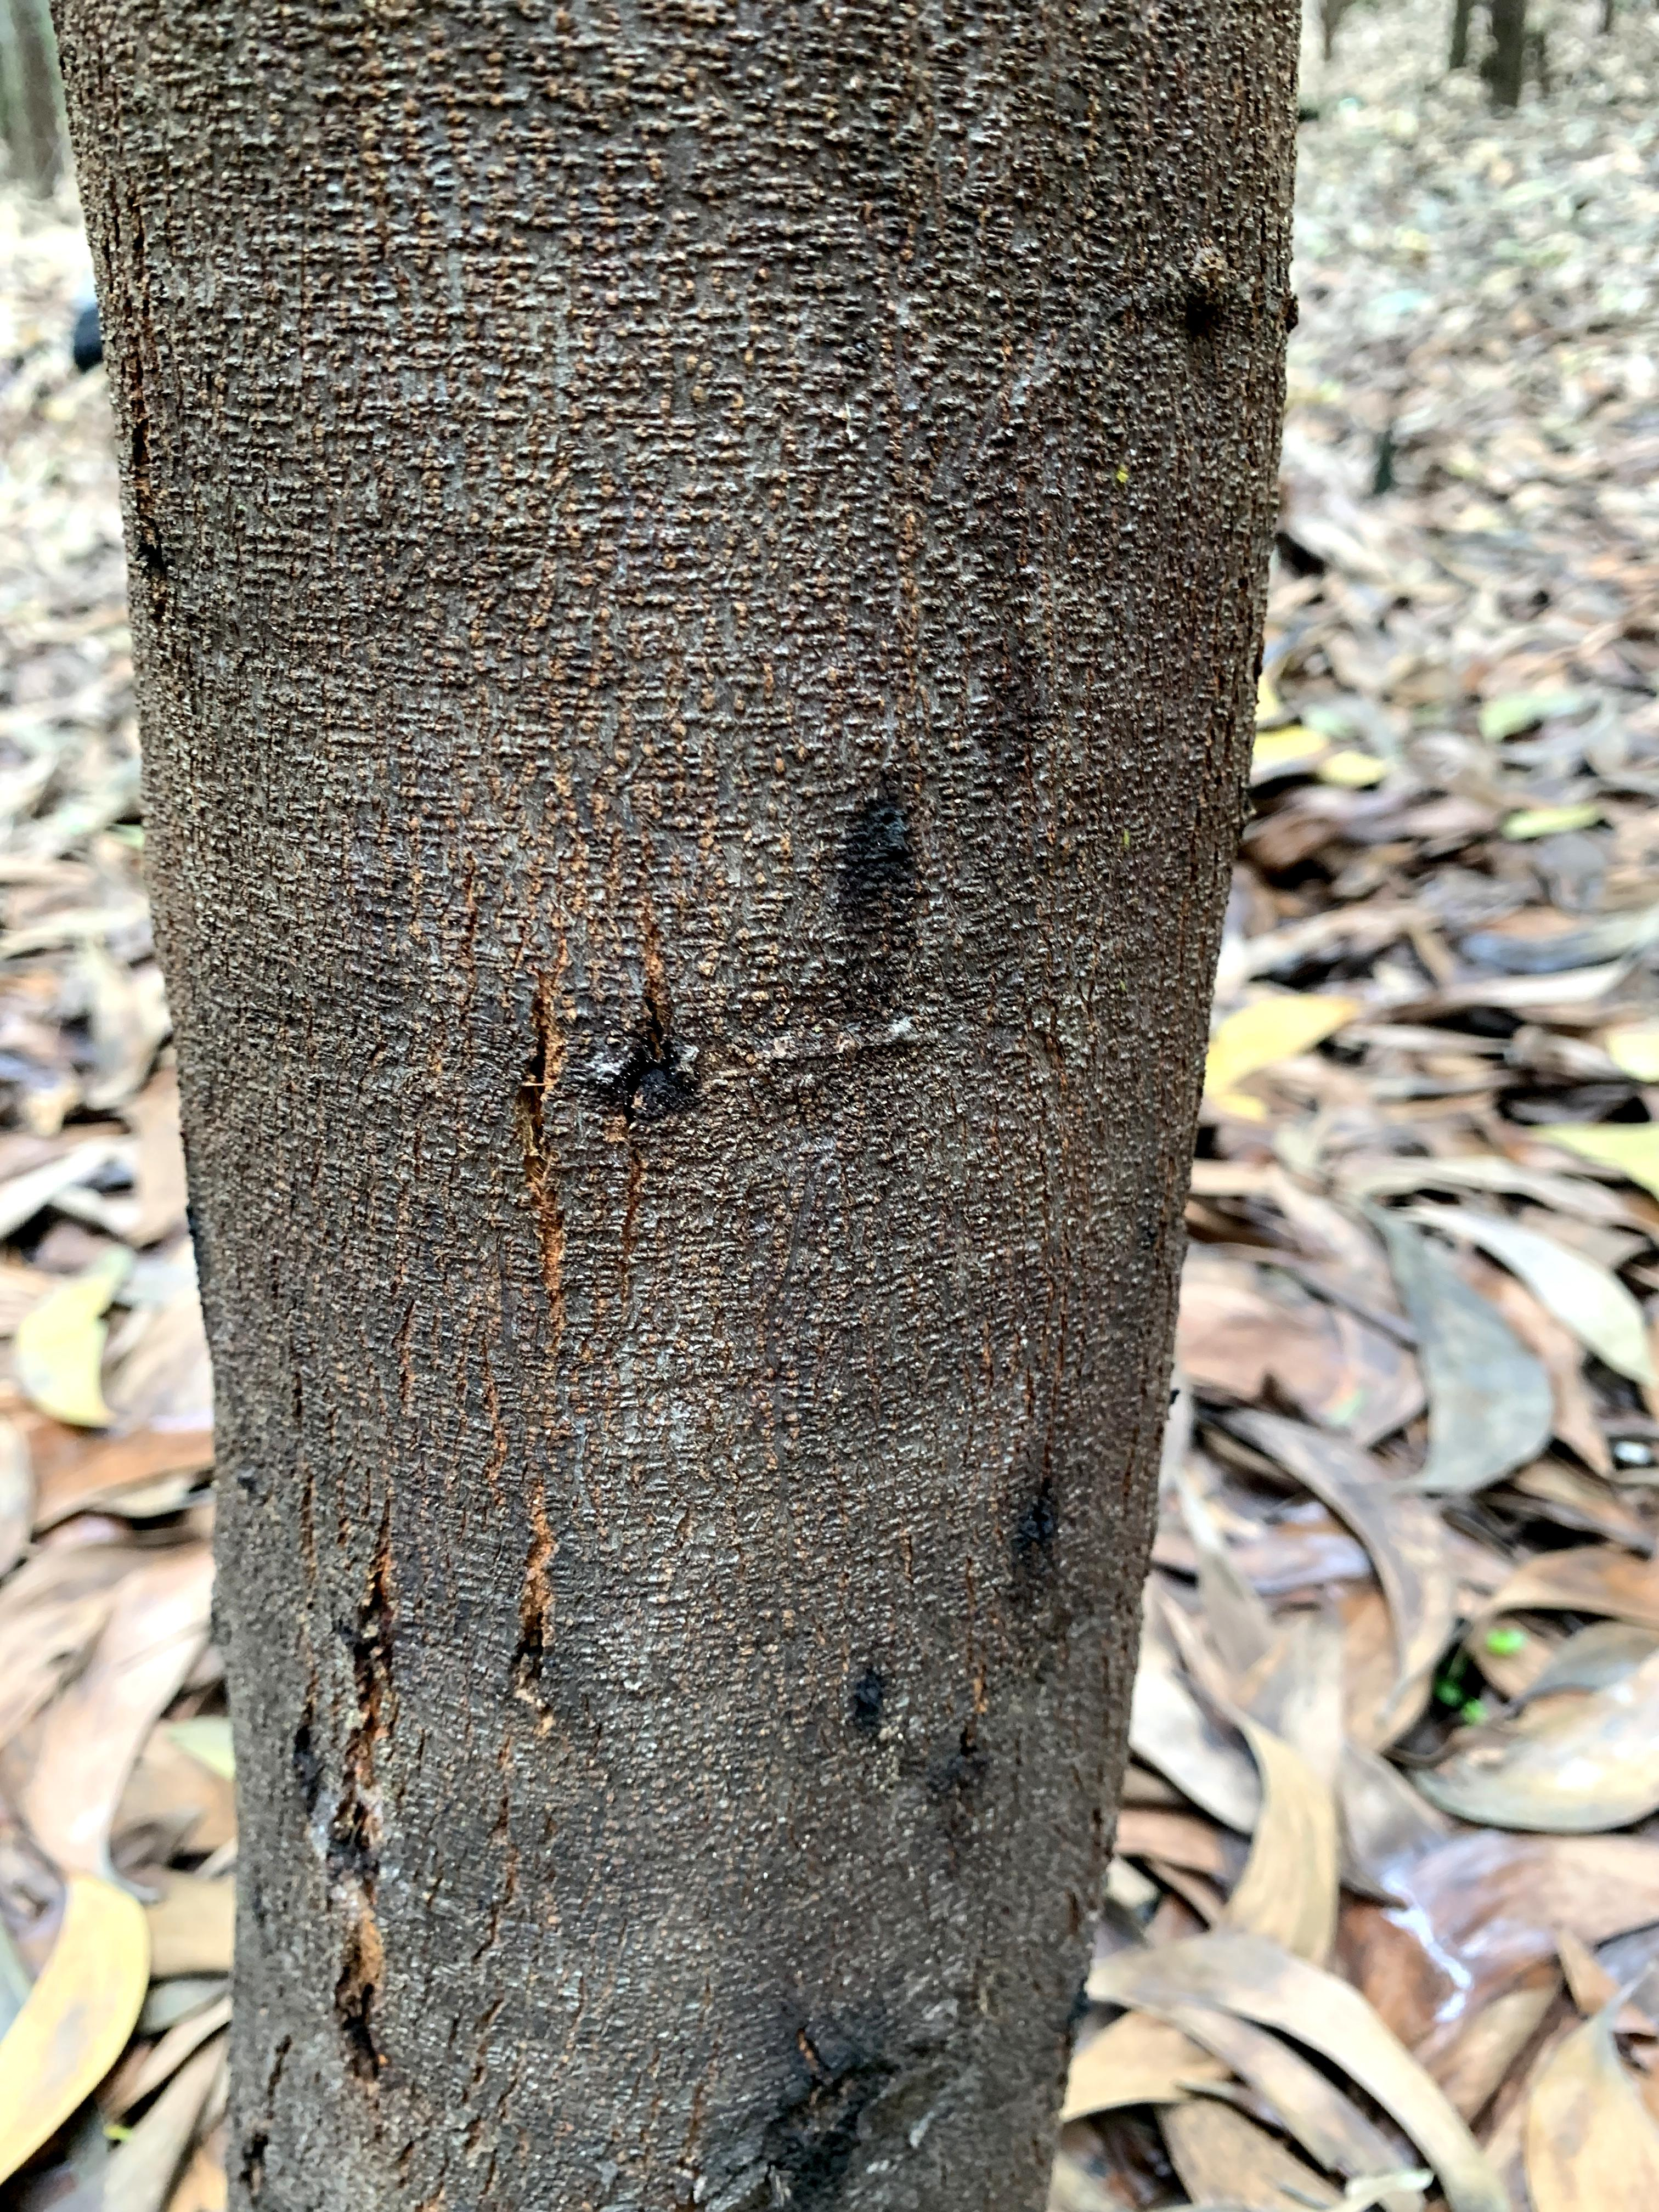Stem Borer: (270, 1547, 443, 2085), (573, 967, 713, 1167), (833, 721, 934, 949), (484, 1514, 580, 1750), (983, 1446, 1115, 1597), (945, 1709, 1035, 1836), (842, 1637, 906, 1757)
